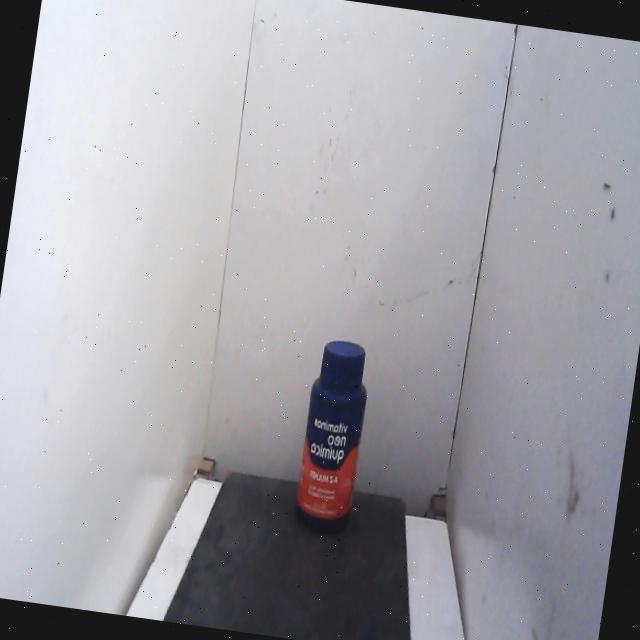plastico: (280, 326, 386, 542)
